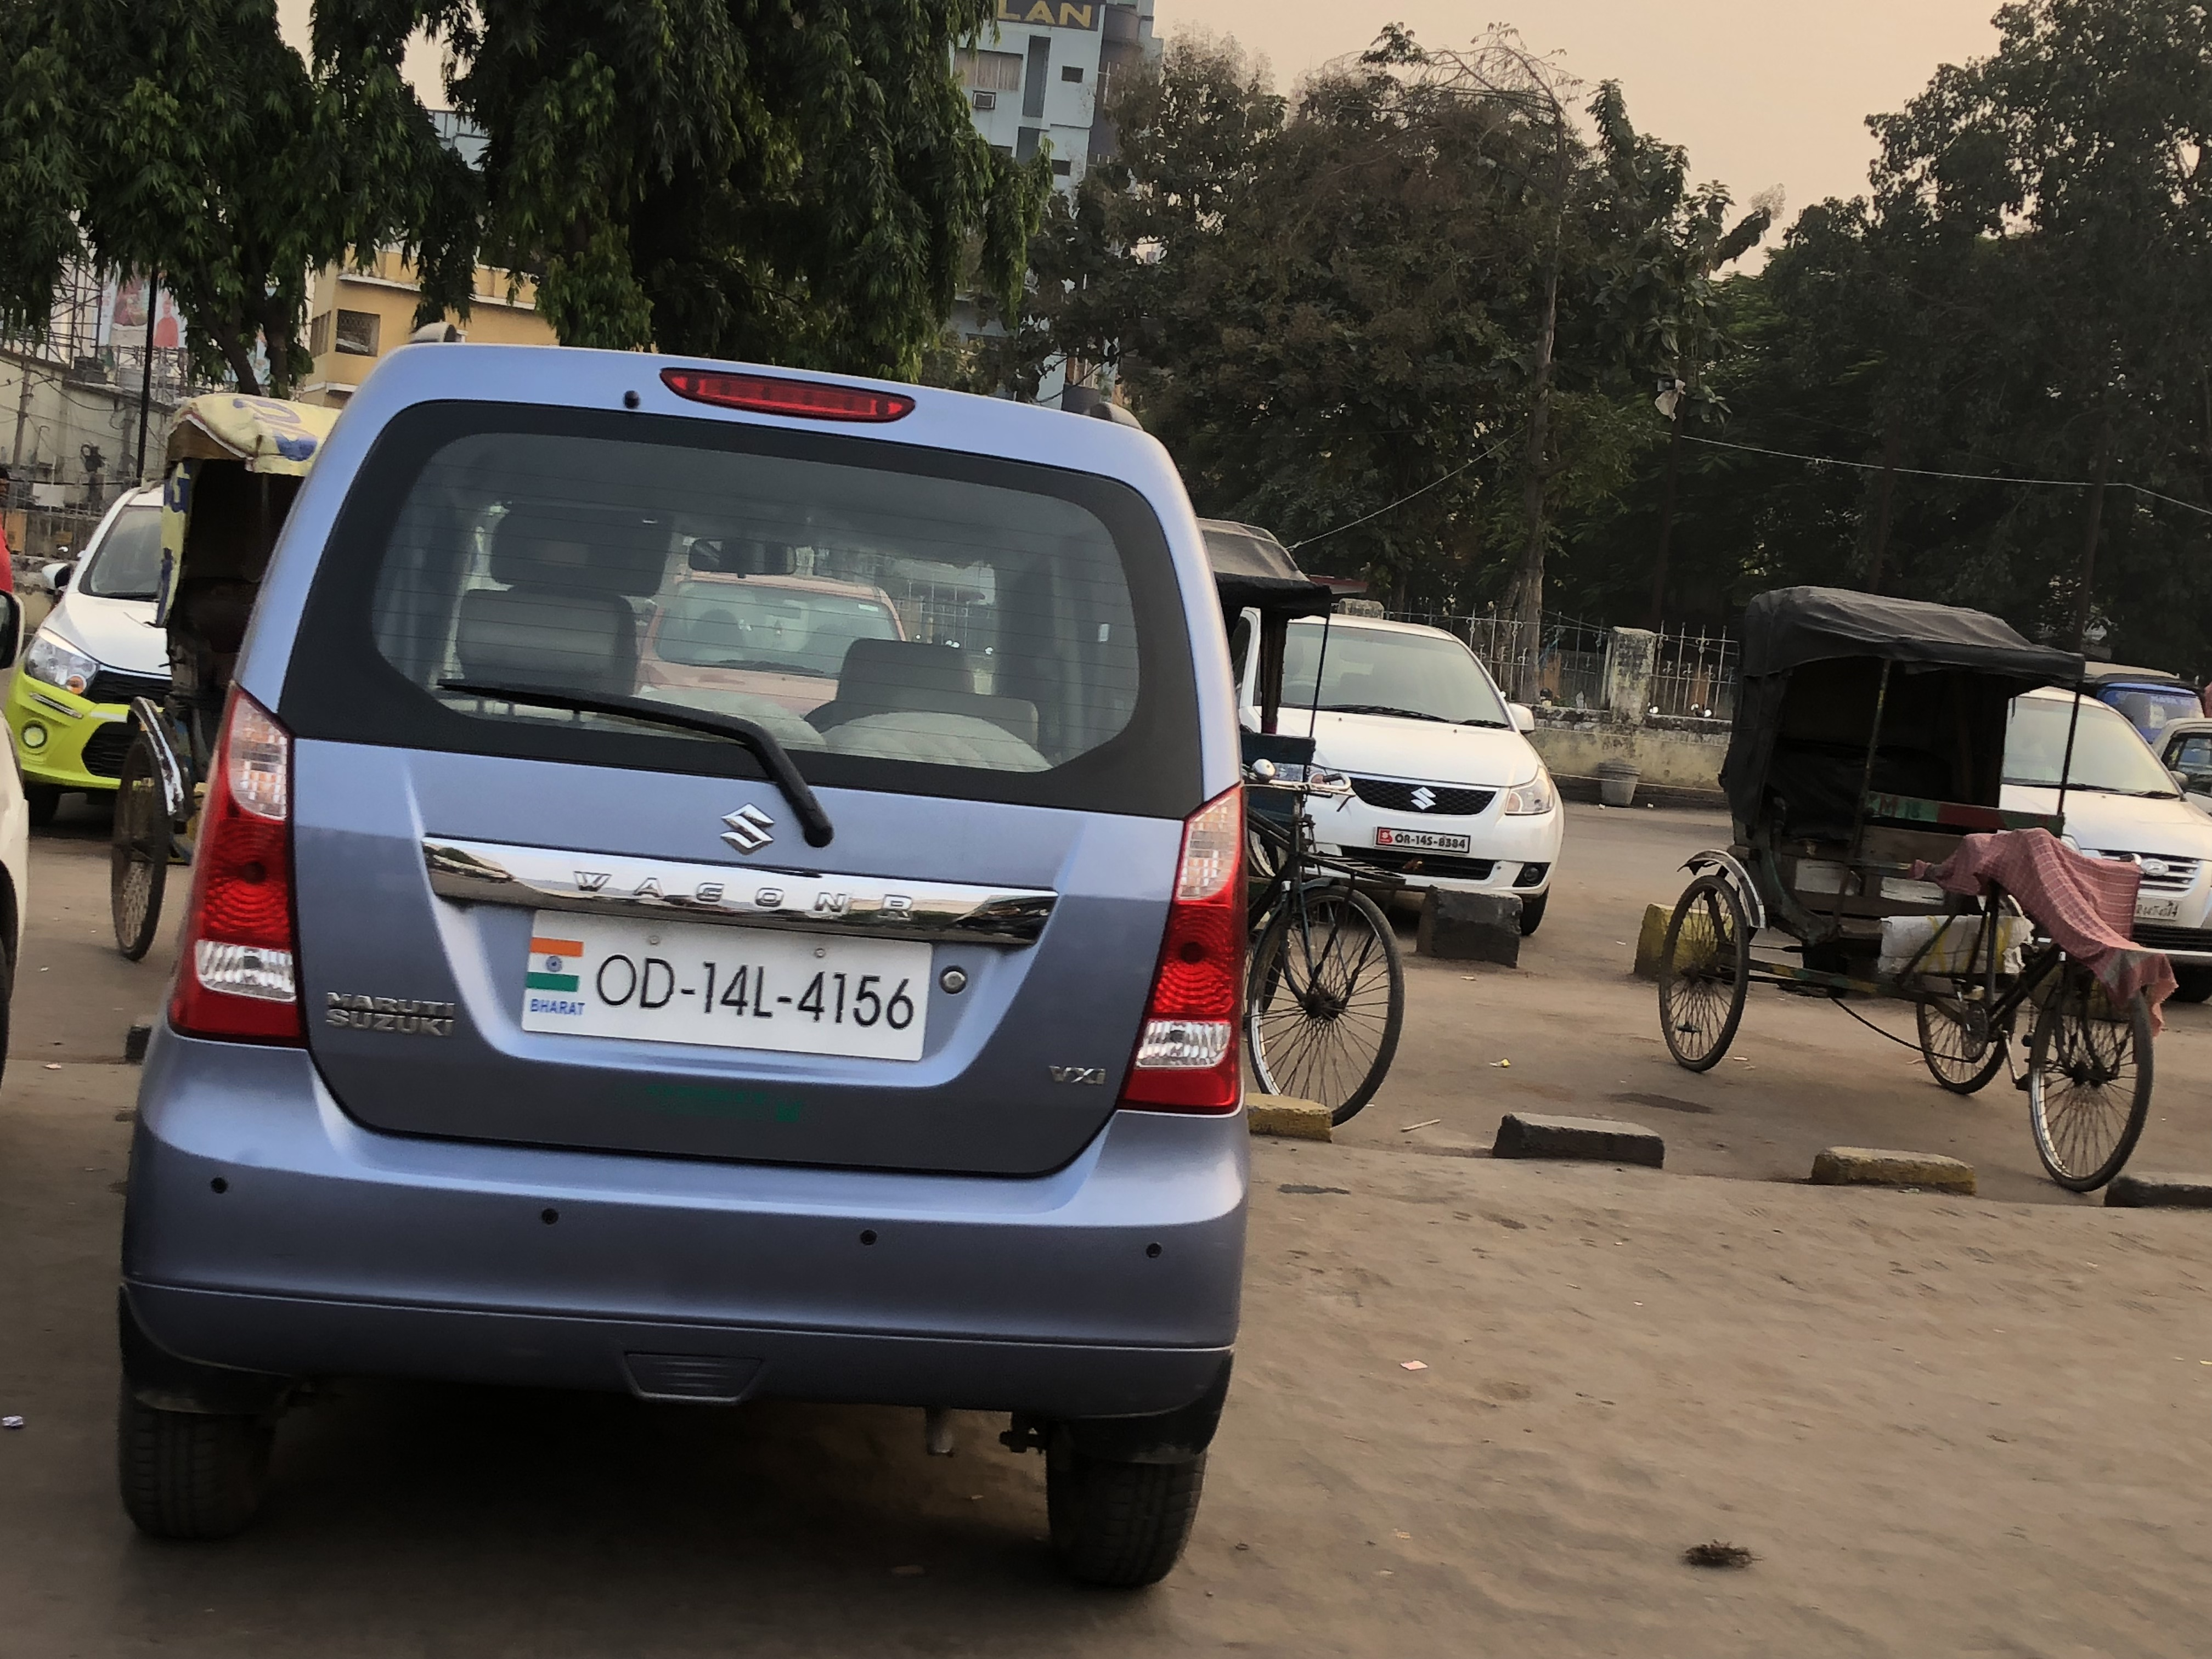licenseplate: (495, 897, 938, 1082)
